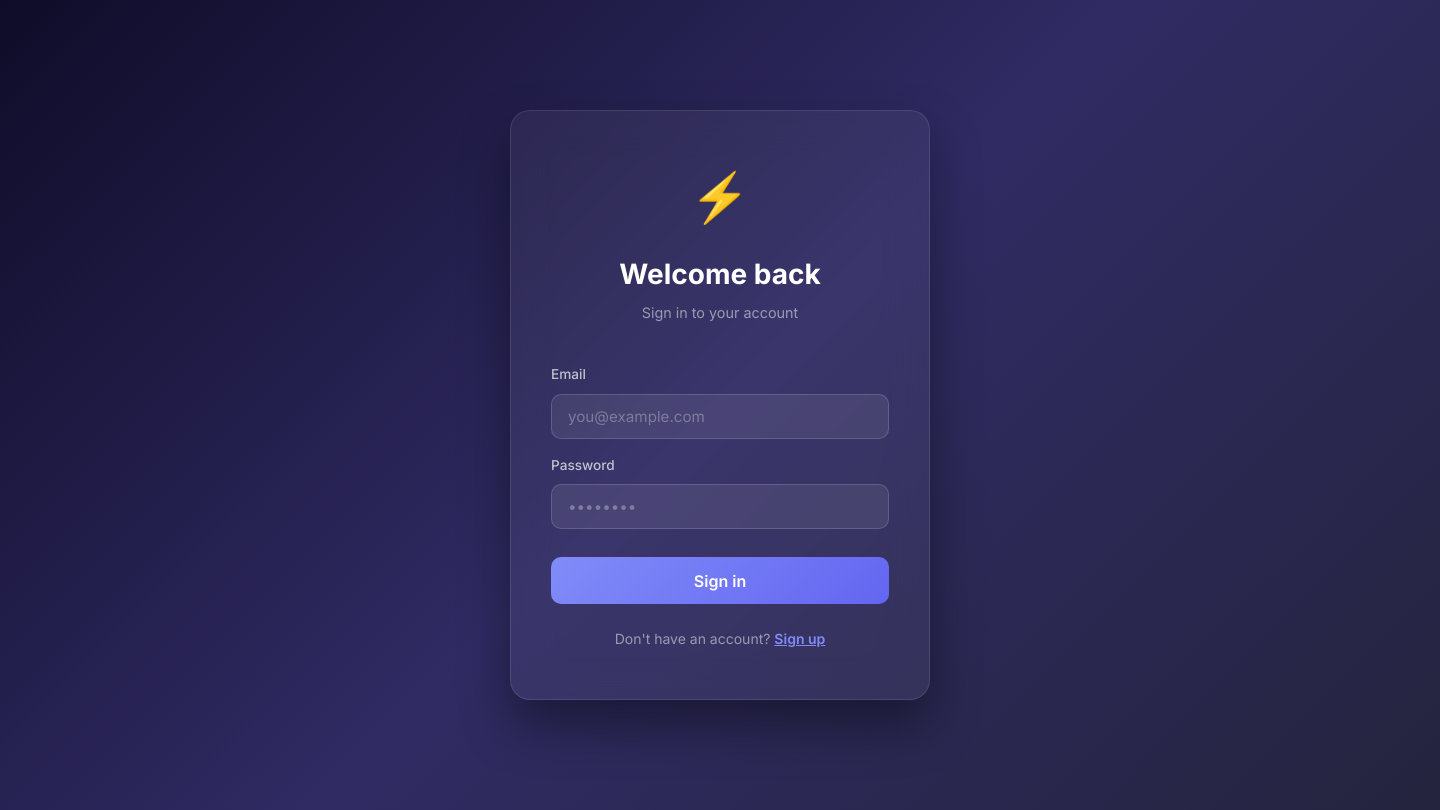
LoginPage › shows error banner on failed login
In the field labelled "Email": (720,416) [551,394,889,438], type "a@b.com"
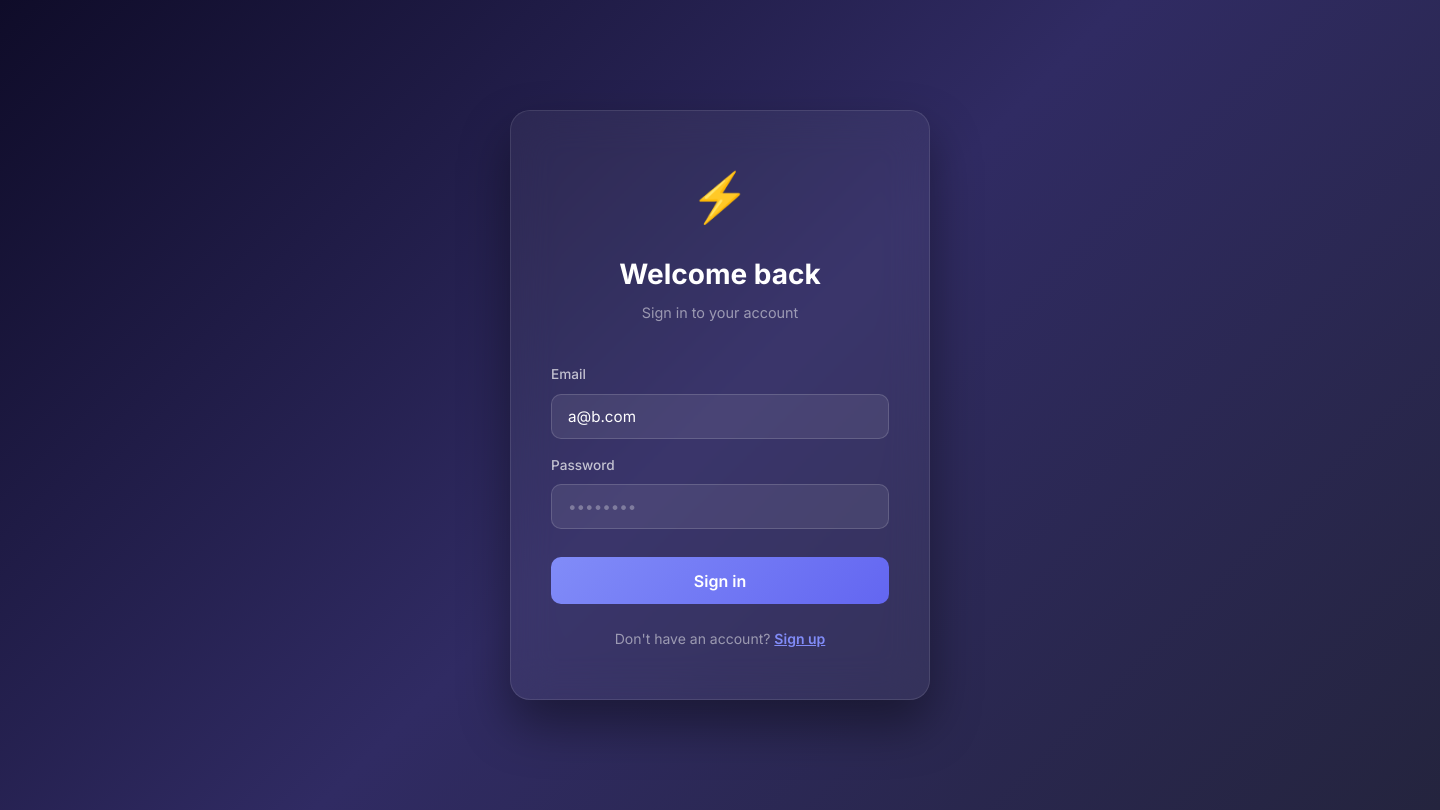
In the password field labelled "Password": (720,507) [551,484,889,529], type "wrongpass"
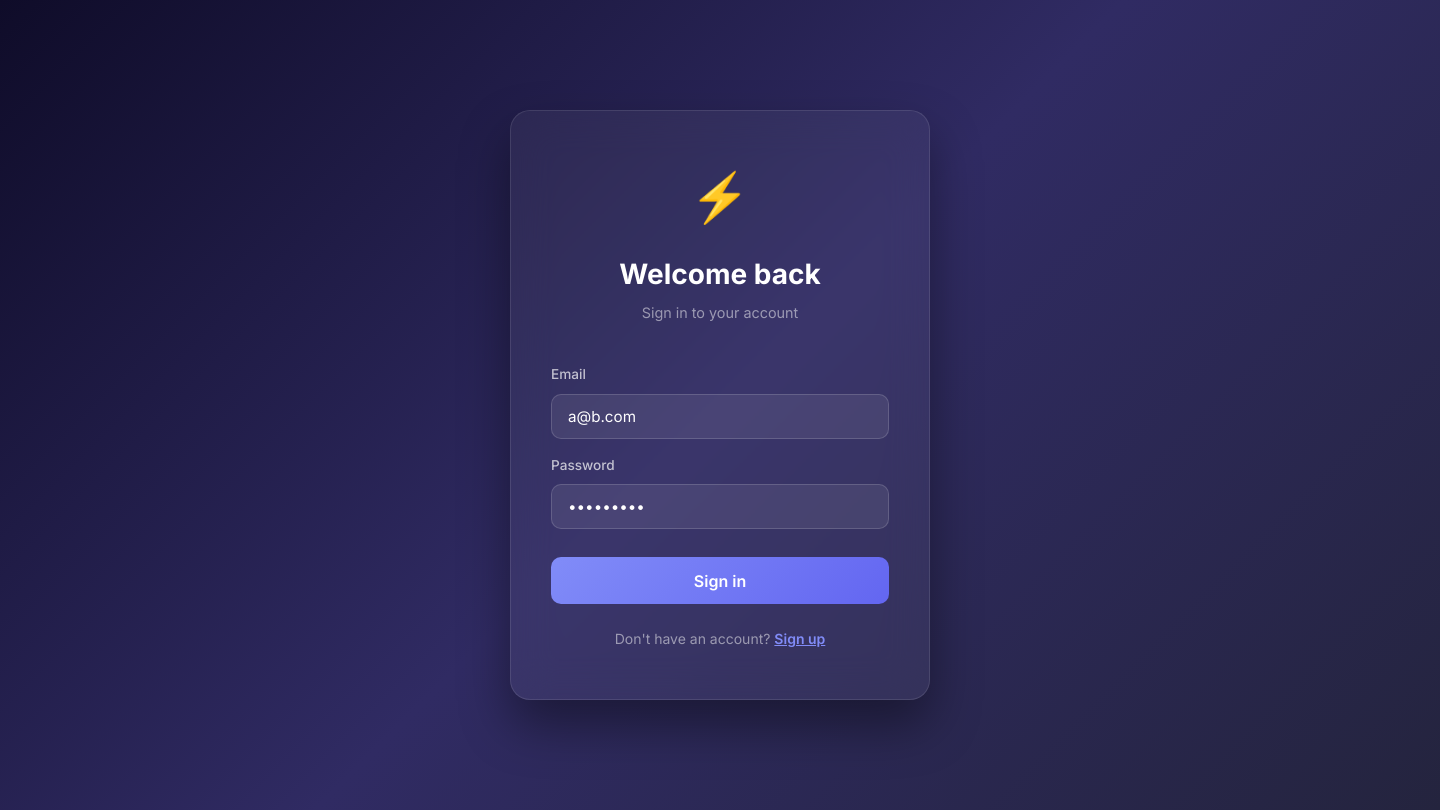
Click the button "Sign in": (720,581) [551,557,889,604]
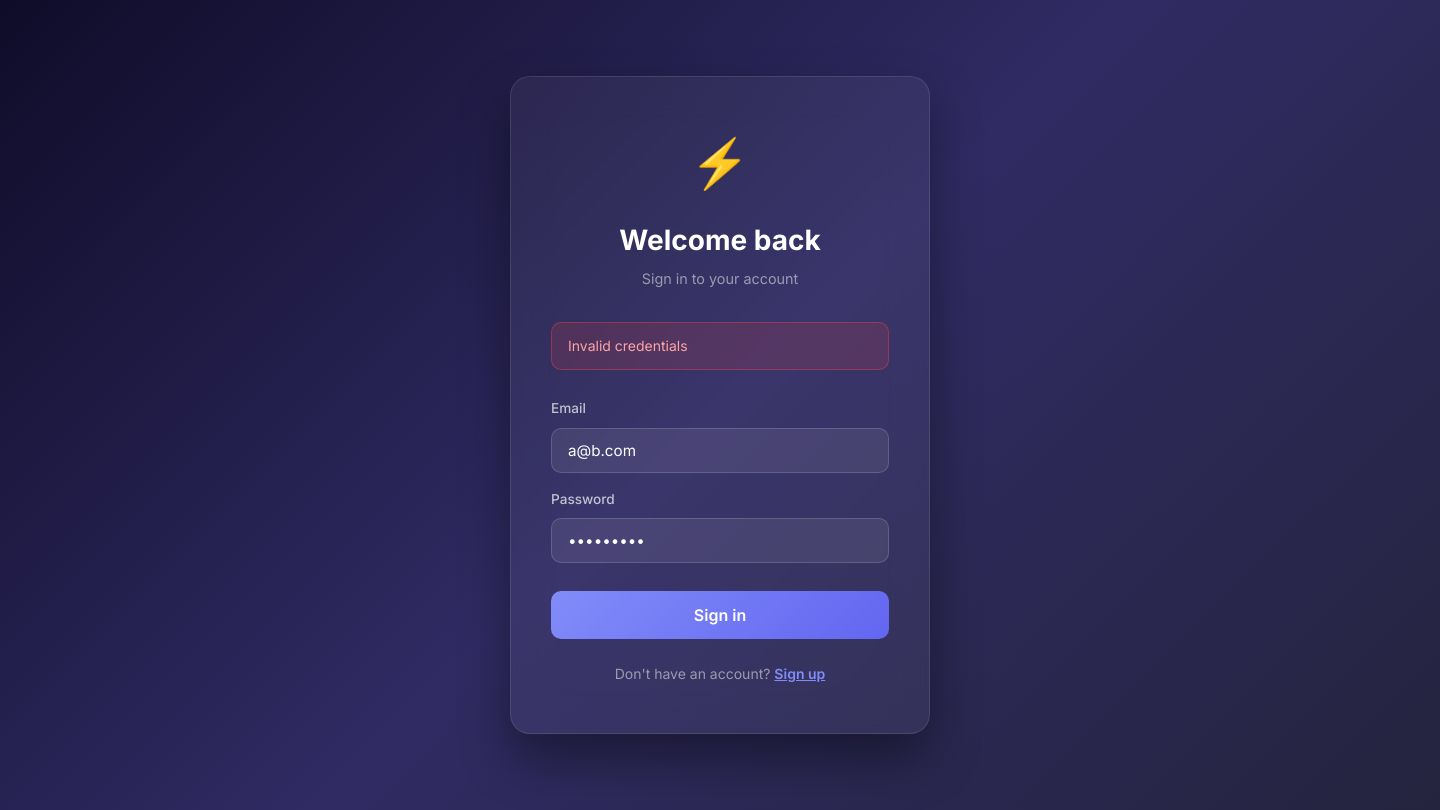
expect the message reads "Invalid credentials": met, box [568,337,688,354]
